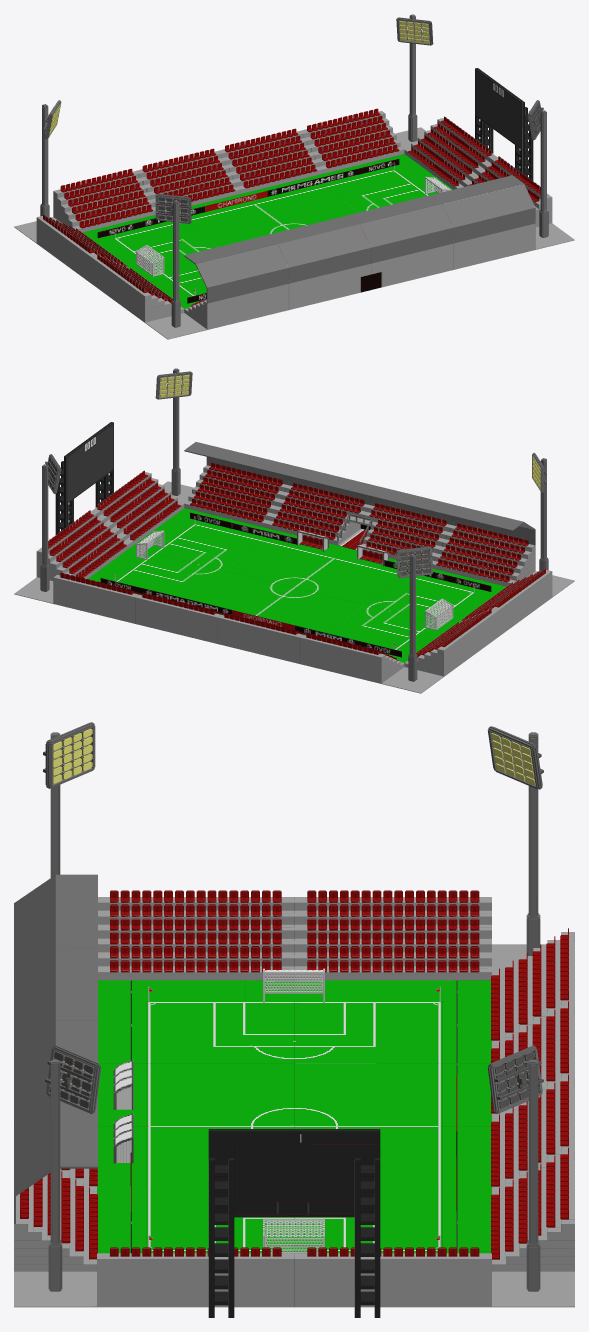
Rendered from football-stadium-pack-3d-low-poly-voxel.gltf.
3 views of the same model, one above another, from view 1: azimuth 30°, elevation 25°; view 2: azimuth 150°, elevation 25°; view 3: azimuth 270°, elevation 25° (orthographic). The views are drawn at different scales.
Parts seen in each view (by area): view 1: _gltfNode_0, _gltfNode_1, _gltfNode_2; view 2: _gltfNode_0, _gltfNode_1, _gltfNode_2; view 3: _gltfNode_0, _gltfNode_1, _gltfNode_2.
Part boxes in pixels (x1=…): _gltfNode_0: x1=14, y1=14, x2=574, y2=339; _gltfNode_1: x1=91, y1=108, x2=535, y2=329; _gltfNode_2: x1=36, y1=138, x2=471, y2=284; _gltfNode_0: x1=14, y1=368, x2=574, y2=693; _gltfNode_1: x1=53, y1=462, x2=552, y2=643; _gltfNode_2: x1=63, y1=531, x2=543, y2=676; _gltfNode_0: x1=14, y1=722, x2=574, y2=1317; _gltfNode_1: x1=14, y1=890, x2=574, y2=1271; _gltfNode_2: x1=294, y1=890, x2=491, y2=980.
Bounding box in the file's own units: 893 × 261 × 568.
Materials: 1 (1 with a texture image).
